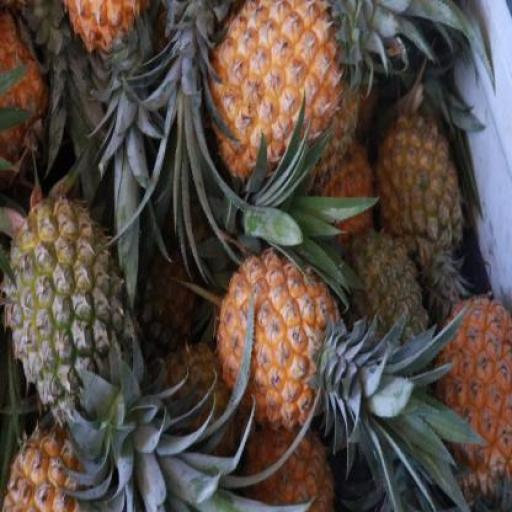------------------------------: (3, 196, 137, 426), (378, 108, 464, 280)
Pineapple - v8 v1: (210, 0, 357, 190), (220, 251, 342, 435), (438, 300, 510, 502)
